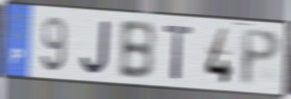4: (203, 25, 234, 86)
9: (40, 14, 68, 74)
B: (117, 19, 157, 82)
J: (79, 19, 112, 76)
P: (240, 27, 282, 89)
T: (163, 23, 196, 82)
